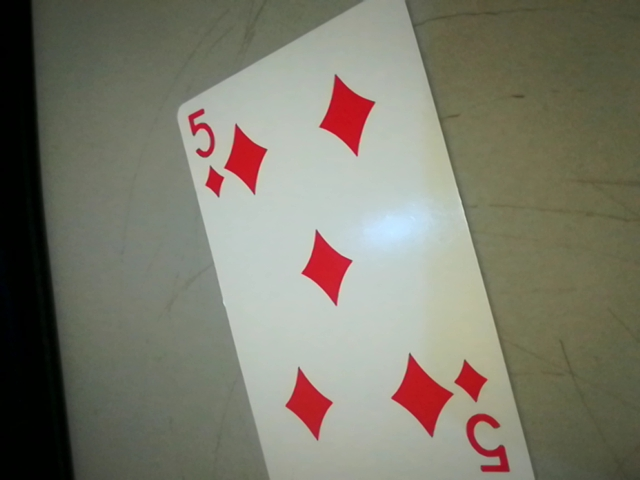fk 5: (449, 355, 520, 480)
